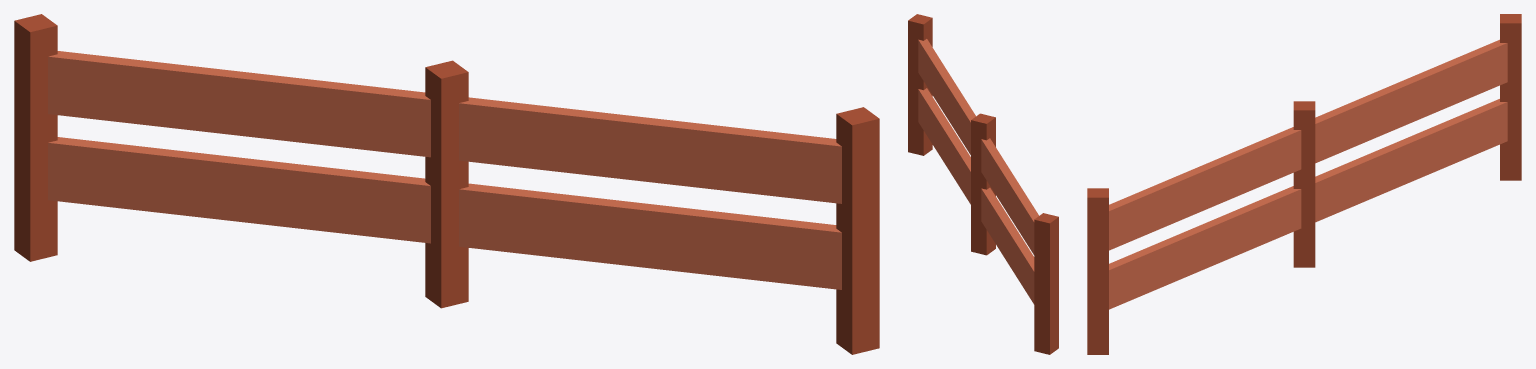
File: Fence.glb
The picture shows the model from 3 angles, left to right: view 1: azimuth 30°, elevation 25°; view 2: azimuth 150°, elevation 25°; view 3: azimuth 270°, elevation 25°; orthographic projection. The views are drawn at different scales.
Parts seen in each view (by area): view 1: fence_classicDiagonal; view 2: fence_classicDiagonal; view 3: fence_classicDiagonal.
Boxes of the visible parts, bbox=[...] form: fence_classicDiagonal: bbox=[14, 14, 879, 354]; fence_classicDiagonal: bbox=[908, 14, 1058, 354]; fence_classicDiagonal: bbox=[1087, 14, 1521, 354].
Bounding box in the file's own units: 0.2 × 0.08 × 0.2.
